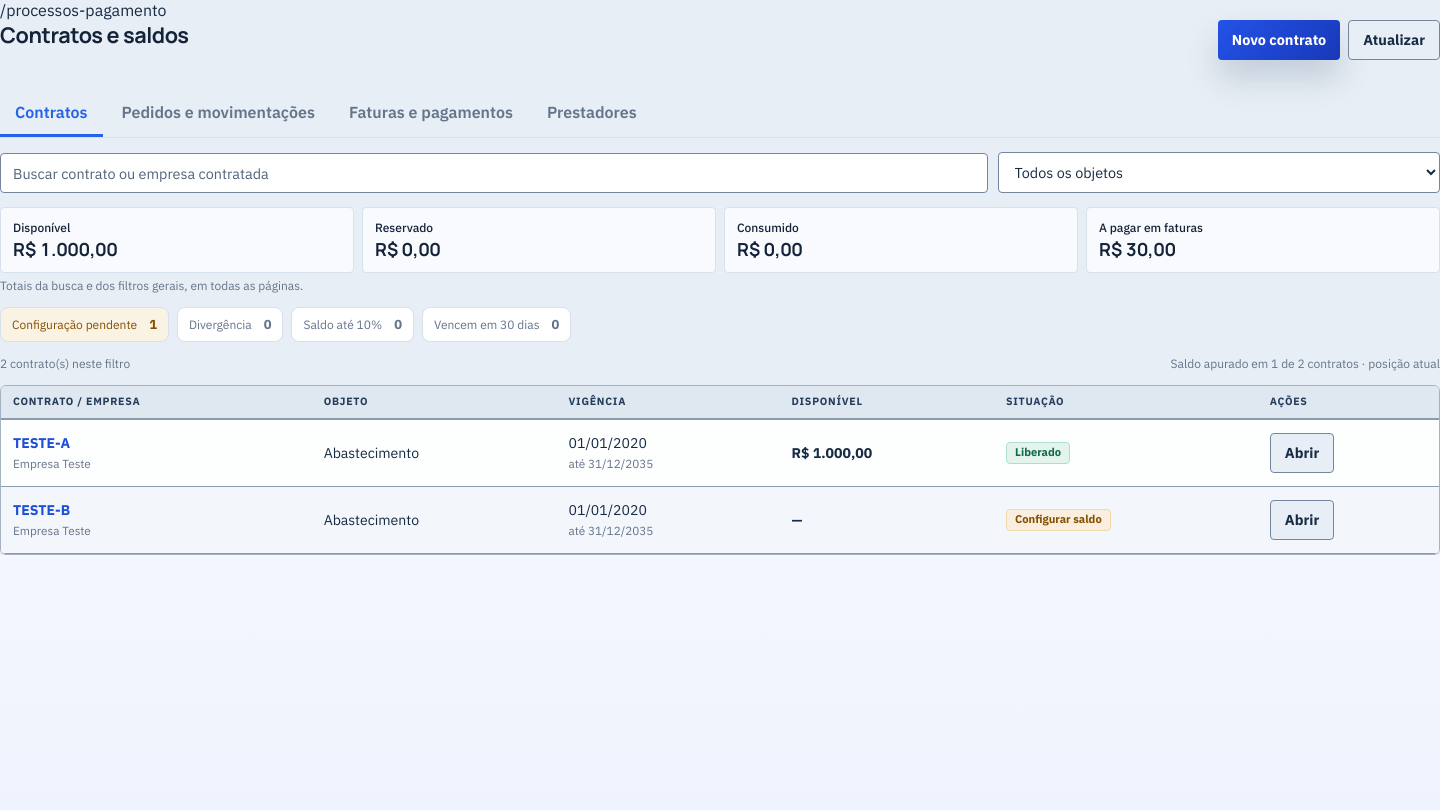
Test: desconsidera um detalhe atrasado depois de selecionar outro contrato
Click the button with aria-label "Abrir contrato TESTE-A". click: [42, 443]
box: [13,434,70,452]
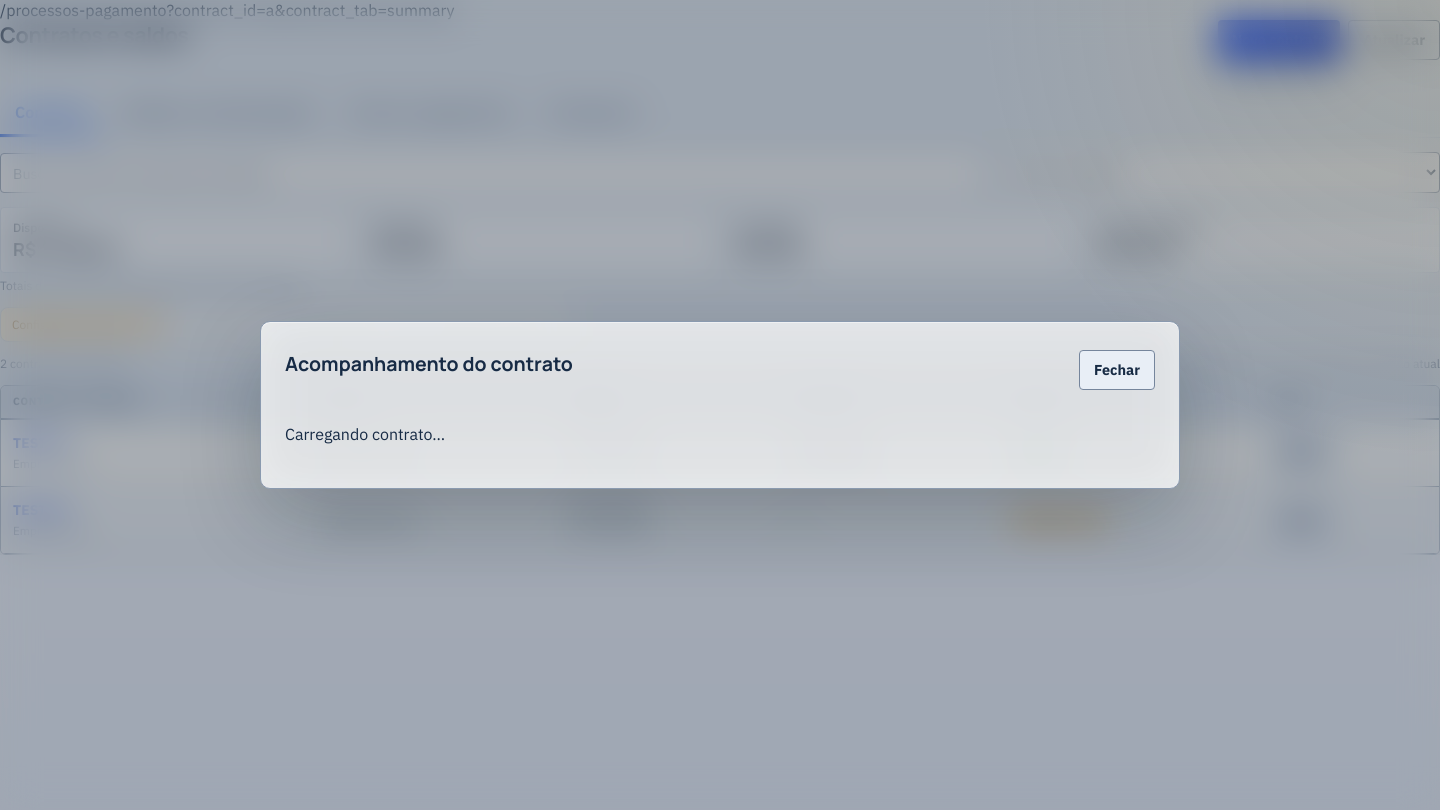
Now the text "Carregando contrato…" is shown, box [285,424,445,444]
Click the button "Fechar". click: [1117, 370]
box: [1079,350,1155,390]
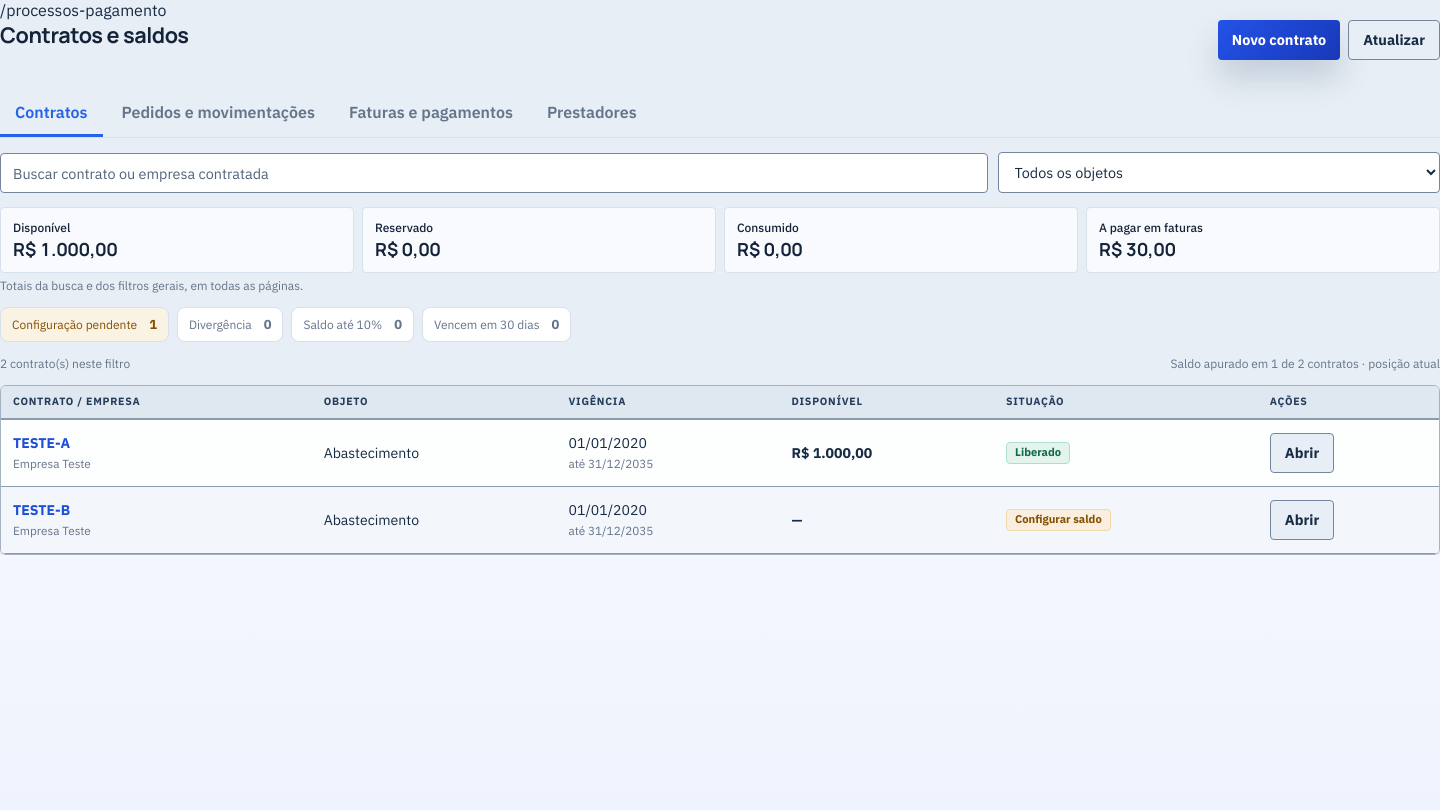
Click the button with aria-label "Abrir contrato TESTE-B". click: [42, 510]
box: [13,501,70,519]
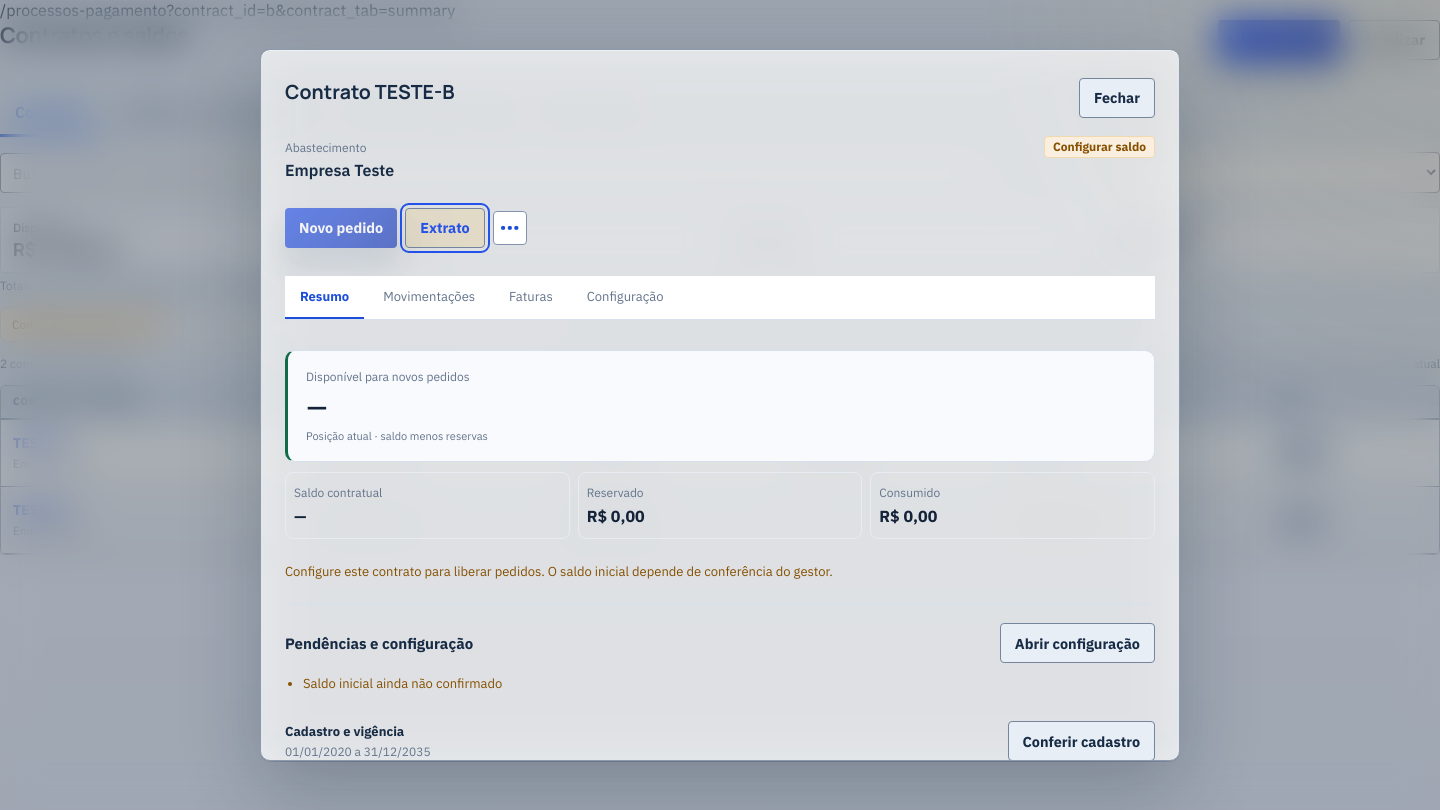
Now the dialog "Contrato TESTE-B" is shown, box [260,49,1180,761]
